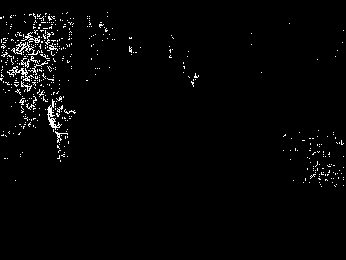person: (48, 96, 76, 163)
